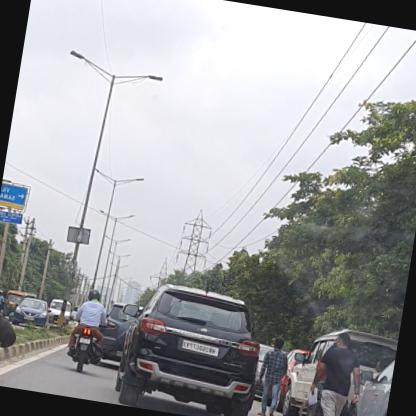car: (105, 275, 270, 415), (276, 322, 398, 415), (88, 299, 143, 371), (339, 349, 395, 415), (10, 294, 50, 328), (46, 297, 72, 327)
motorcycle: (66, 286, 110, 374), (0, 288, 6, 313)
